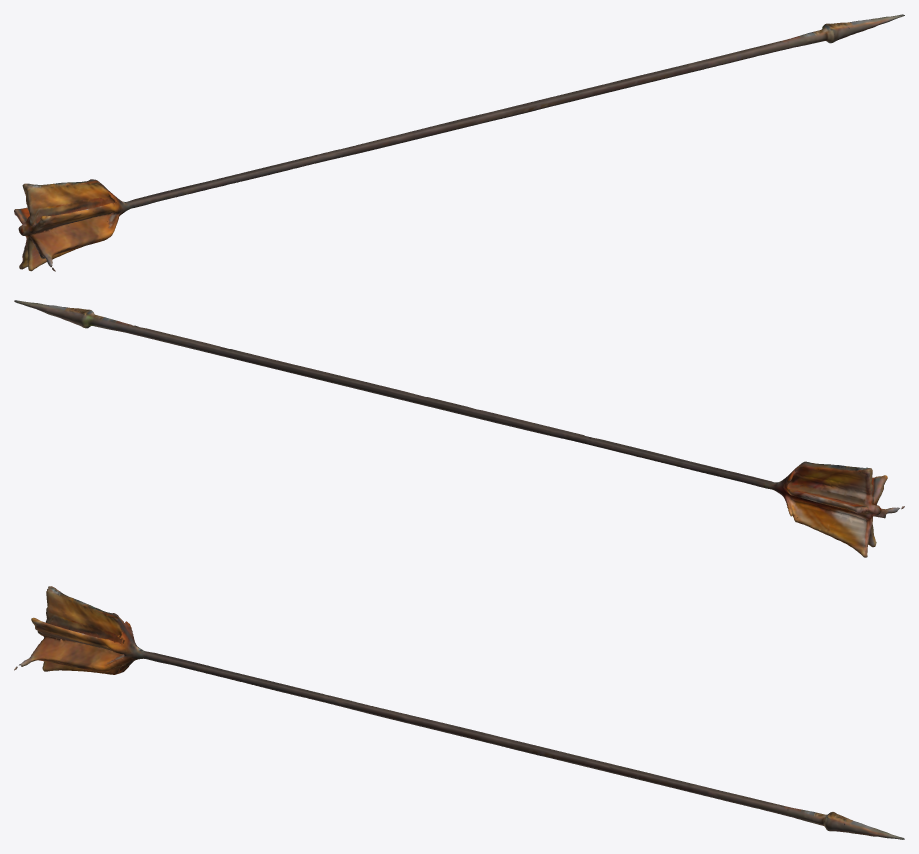
File: CUNG.fbx
3 views of the same model, one above another, from view 1: azimuth 30°, elevation 25°; view 2: azimuth 150°, elevation 25°; view 3: azimuth 330°, elevation 25° (orthographic). The views are drawn at different scales.
Parts seen in each view (by area): view 1: Mesh1_Mesh1.008; view 2: Mesh1_Mesh1.008; view 3: Mesh1_Mesh1.008.
Boxes of the visible parts, <box> form: Mesh1_Mesh1.008: <box>14,14,904,271</box>; Mesh1_Mesh1.008: <box>14,300,904,557</box>; Mesh1_Mesh1.008: <box>14,586,904,839</box>.
Bounding box in the file's own units: 201 × 19.02 × 17.74.
1 material, 1 textured.
